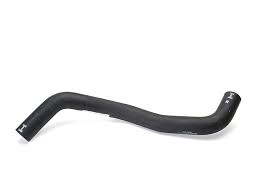radiator_hose: (17, 91, 241, 141)
